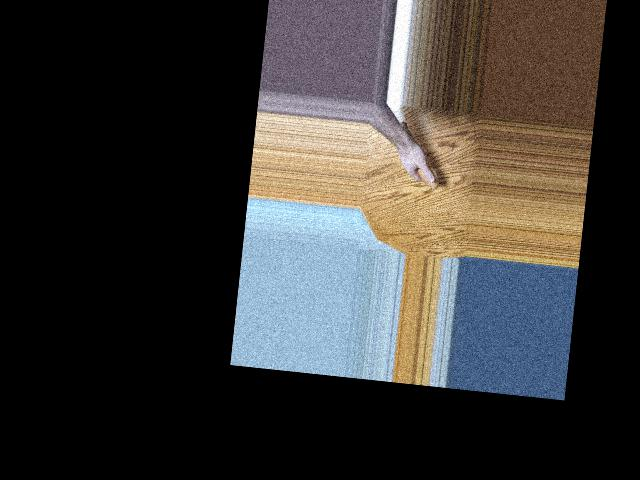sweet_potato: (394, 122, 445, 190)
